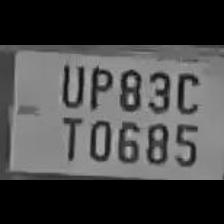0: (82, 113, 112, 162)
3: (142, 64, 172, 112)
5: (170, 118, 200, 166)
6: (114, 115, 140, 163)
8: (113, 64, 142, 112), (143, 117, 169, 165)
C: (170, 65, 202, 115)
P: (84, 62, 114, 110)
T: (54, 111, 84, 161)
U: (56, 58, 86, 108)
